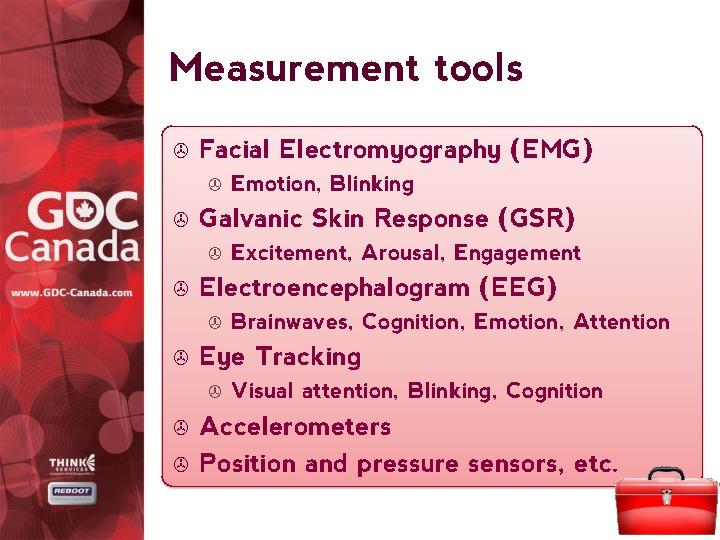paragraph: (160, 120, 689, 486)
title: (163, 41, 535, 100)
